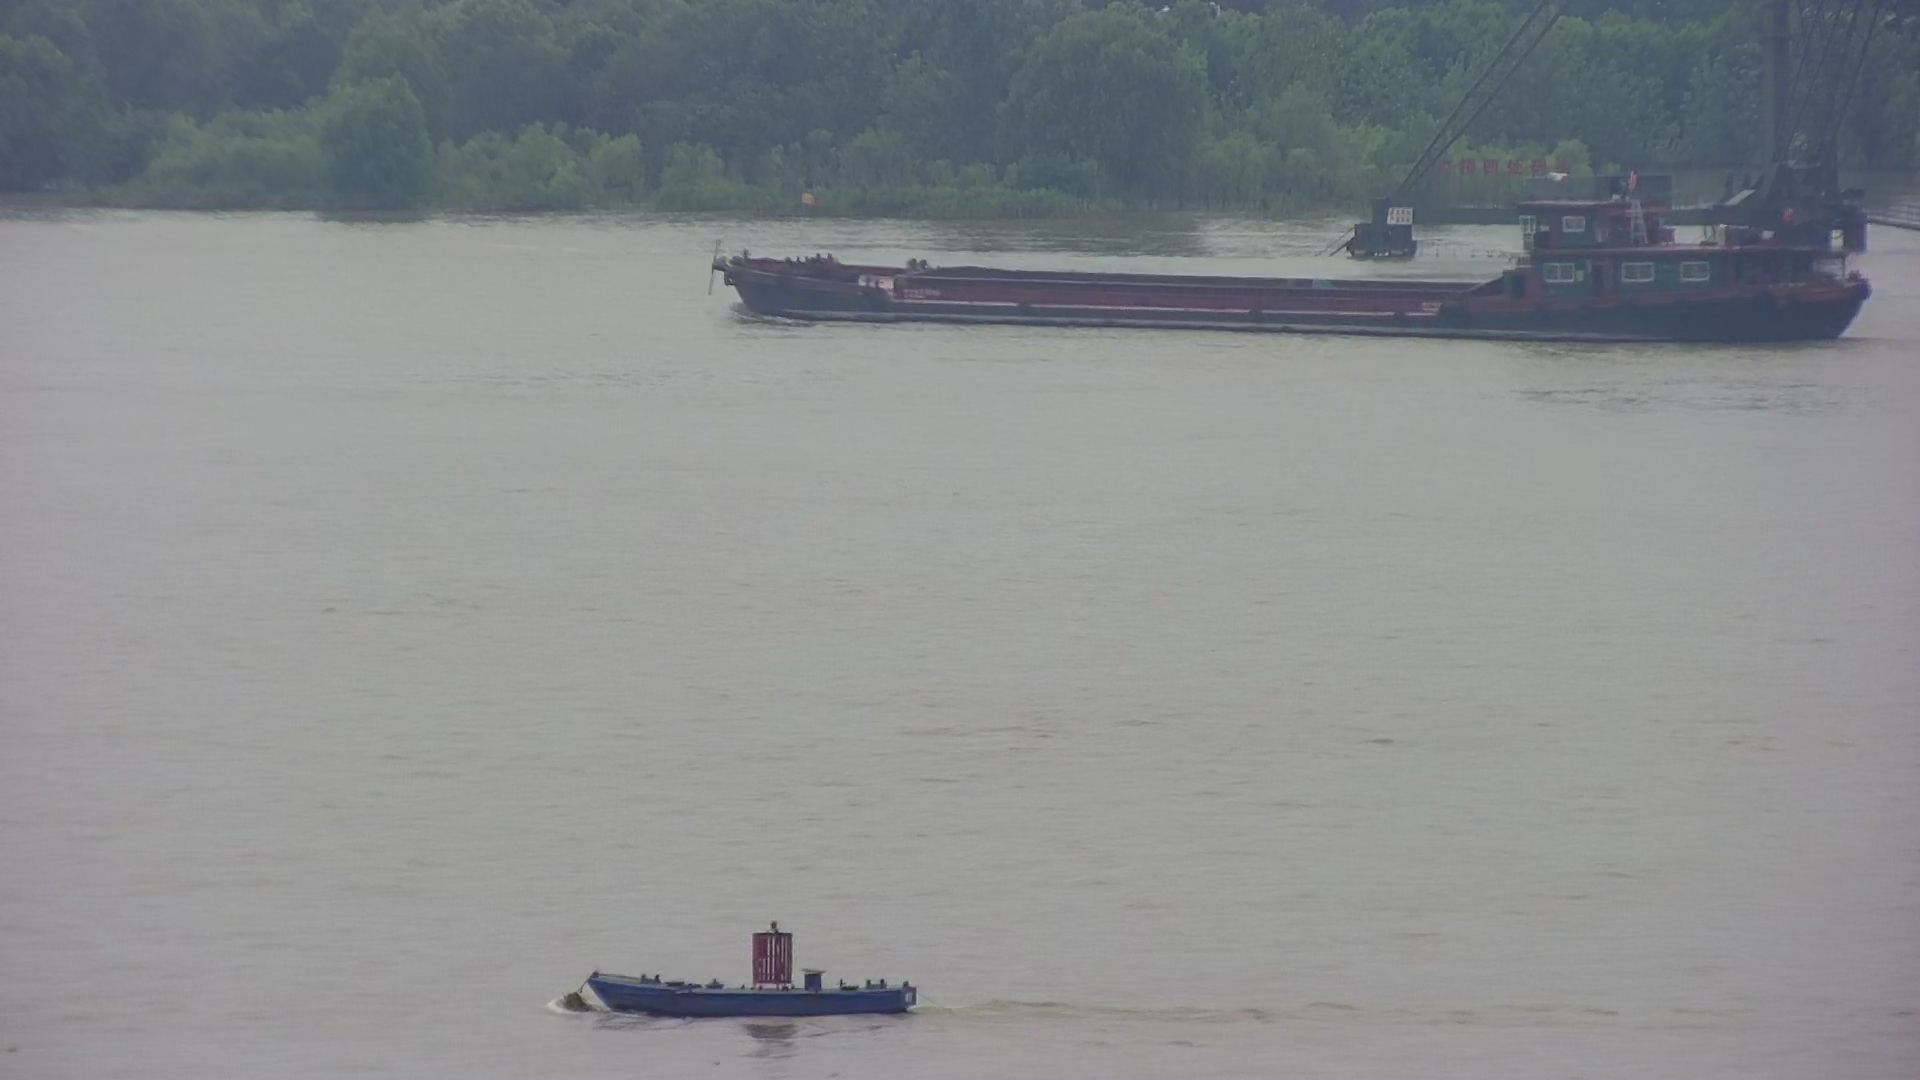boat: (553, 905, 944, 1025)
platform: (1323, 1, 1876, 262)
ship: (678, 156, 1880, 353)
